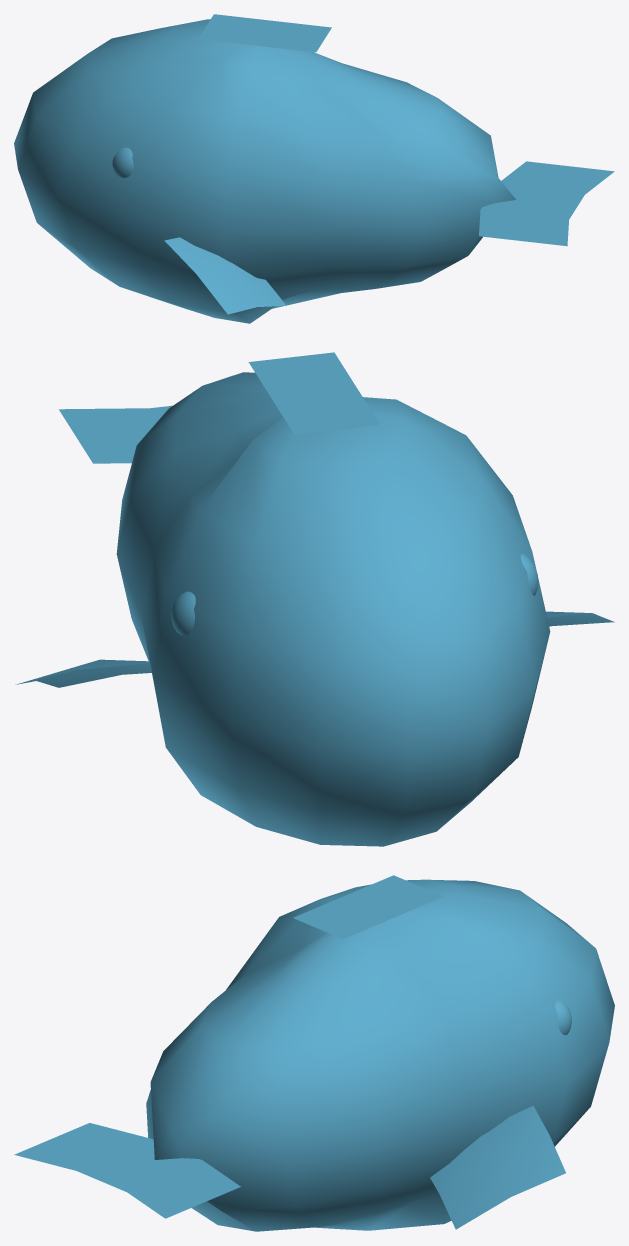
The model's file is fish1.glb.
3 views of the same model, one above another, from view 1: azimuth 30°, elevation 25°; view 2: azimuth 150°, elevation 25°; view 3: azimuth 270°, elevation 25° (orthographic). The views are drawn at different scales.
Parts seen in each view (by area): view 1: Fish; view 2: Fish; view 3: Fish.
Part boxes in pixels (box(x1,y1,x2,y2)): Fish: box(14, 14, 614, 323); Fish: box(15, 352, 614, 846); Fish: box(14, 875, 614, 1231).
Size of the model in its own units: 3.37 by 2 by 3.37.
